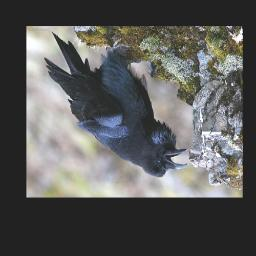Crow: (44, 30, 189, 178)
